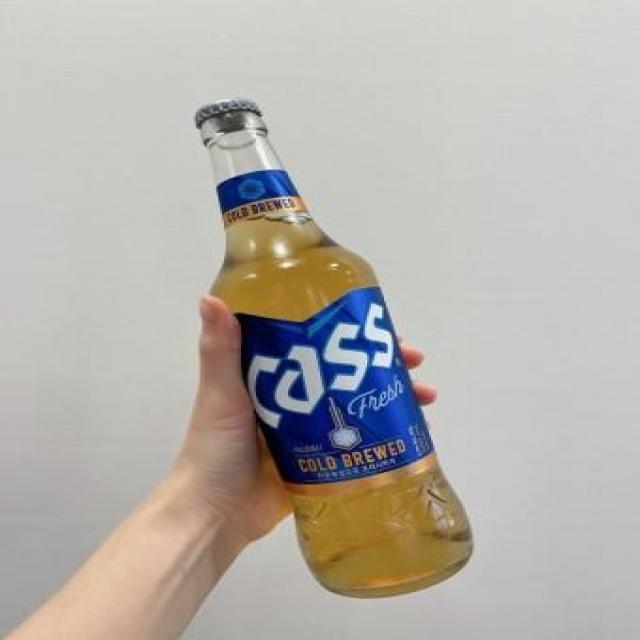beer-bottle: (192, 94, 476, 607)
